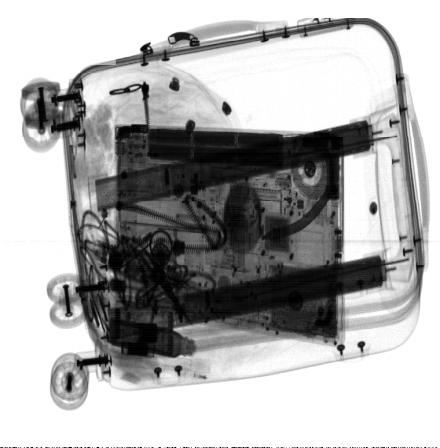Scissors: (109, 207, 195, 326)
